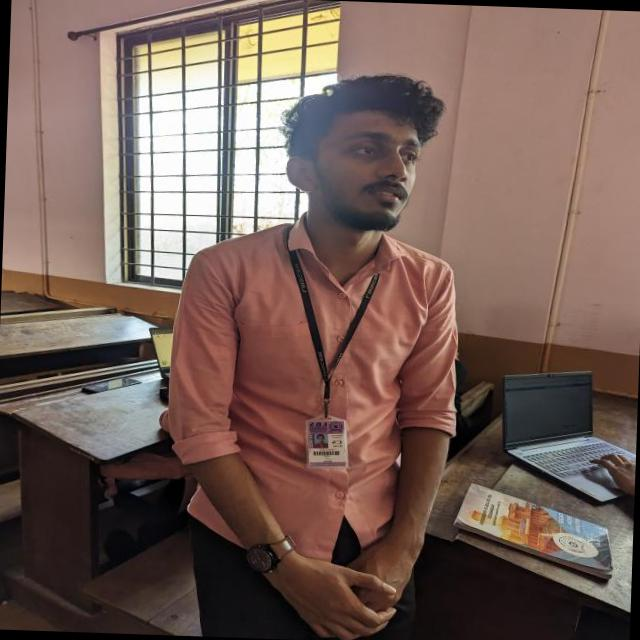id_card: (286, 239, 387, 472)
